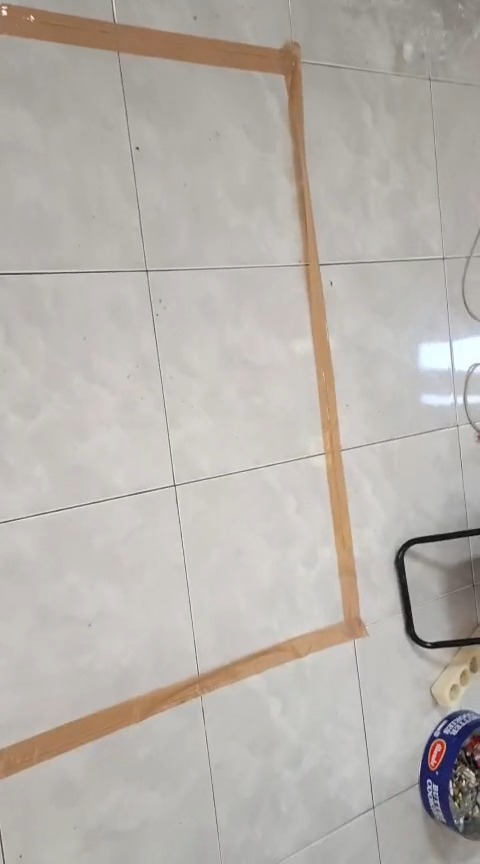floor marking: (0, 4, 366, 777)
